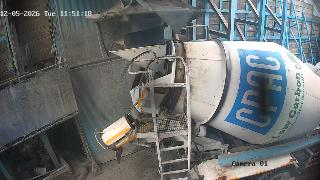cement_mixer_truck: (109, 41, 320, 180)
